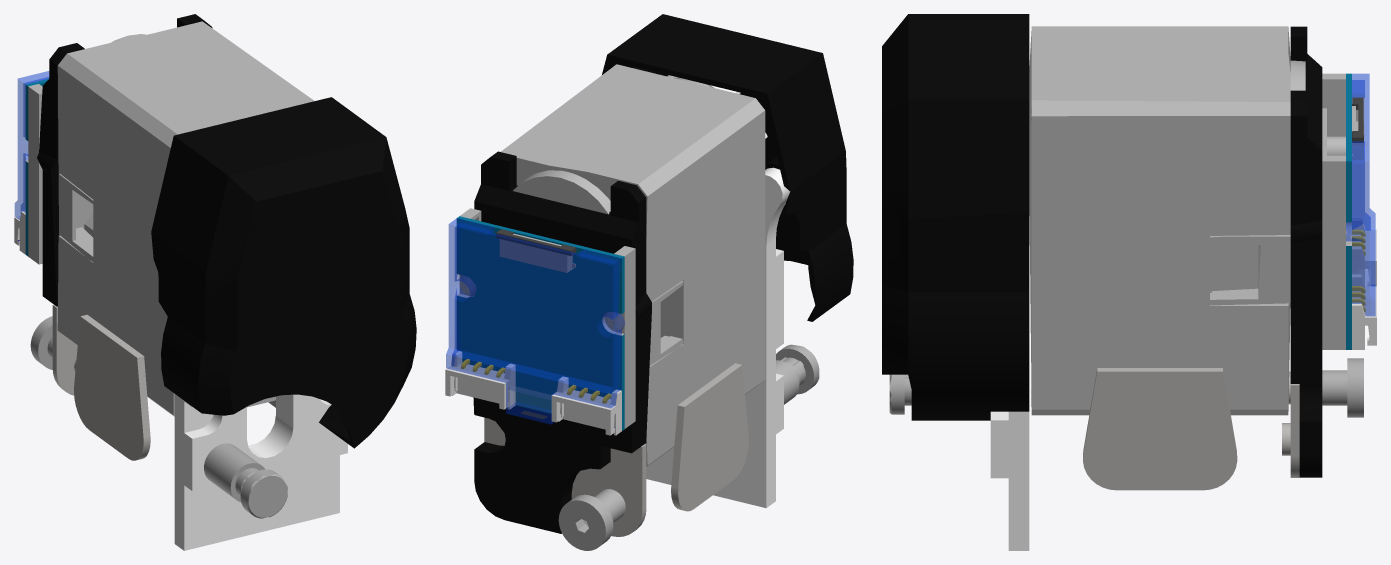
Rendered from r_wrist_r_link.dae.
The picture shows the model from 3 angles, left to right: view 1: azimuth 30°, elevation 25°; view 2: azimuth 150°, elevation 25°; view 3: azimuth 270°, elevation 25°; orthographic projection. The views are drawn at different scales.
Visible parts, largest first — view 1: FBXASC227FBXASC130FBXASC189FBXASC227FBXASC131FBXASC170FBXASC (×13); view 2: FBXASC227FBXASC130FBXASC189FBXASC227FBXASC131FBXASC170FBXASC (×16); view 3: FBXASC227FBXASC130FBXASC189FBXASC227FBXASC131FBXASC170FBXASC (×15).
Part boxes in pixels (bbox=[...]): FBXASC227FBXASC130FBXASC189FBXASC227FBXASC131FBXASC170FBXASC (×13): bbox=[14, 14, 416, 550]; FBXASC227FBXASC130FBXASC189FBXASC227FBXASC131FBXASC170FBXASC (×16): bbox=[445, 14, 853, 550]; FBXASC227FBXASC130FBXASC189FBXASC227FBXASC131FBXASC170FBXASC (×15): bbox=[882, 14, 1376, 550].
Size of the model in its own units: 0.047 by 0.0833 by 0.084.
